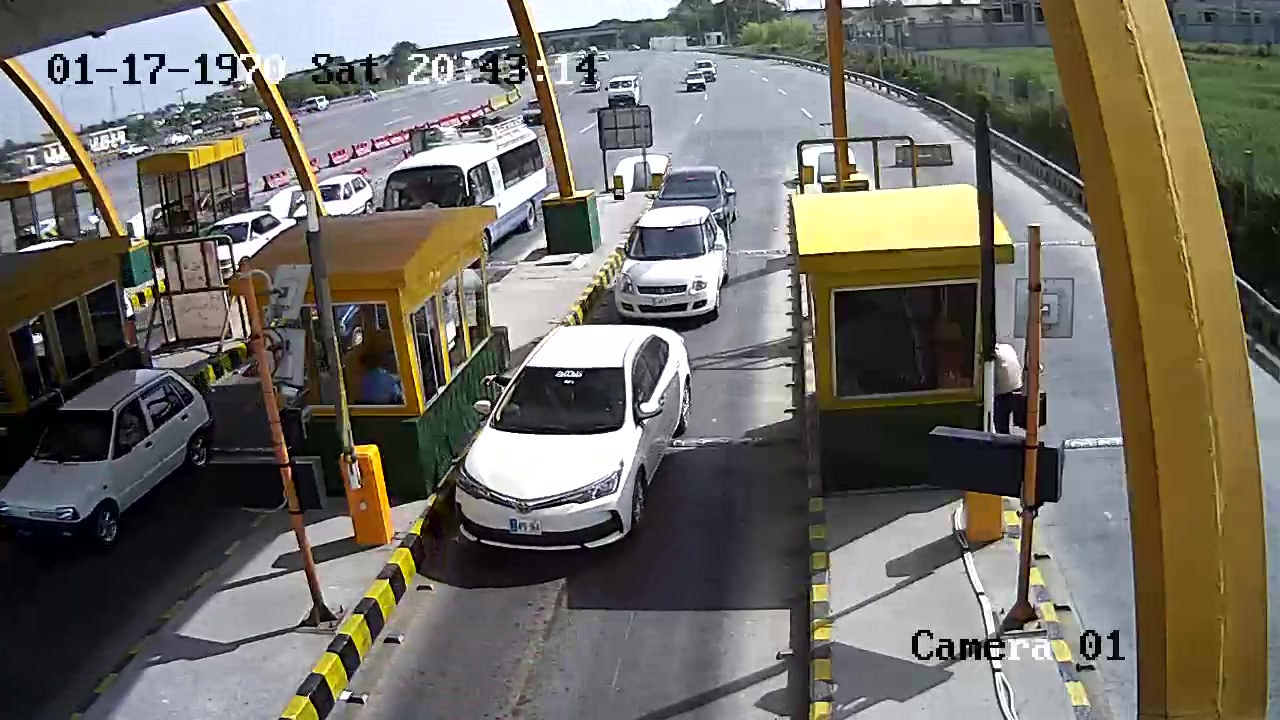F1: (462, 317, 693, 564)
